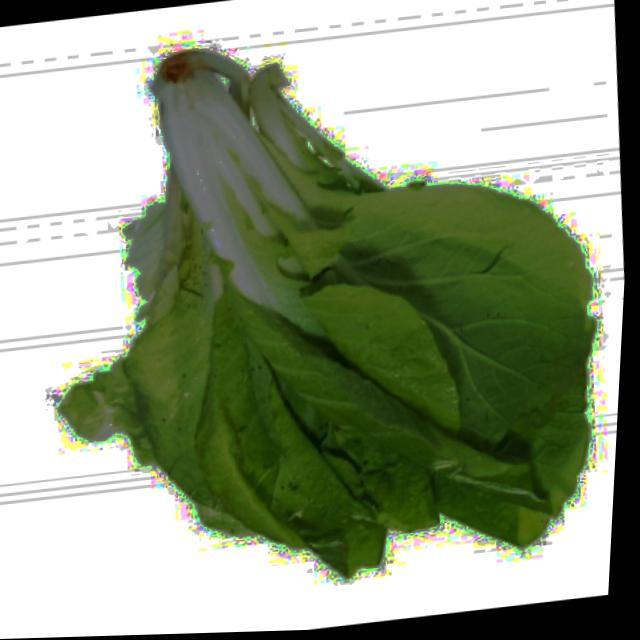chinese_cabbage: (50, 13, 604, 624)
